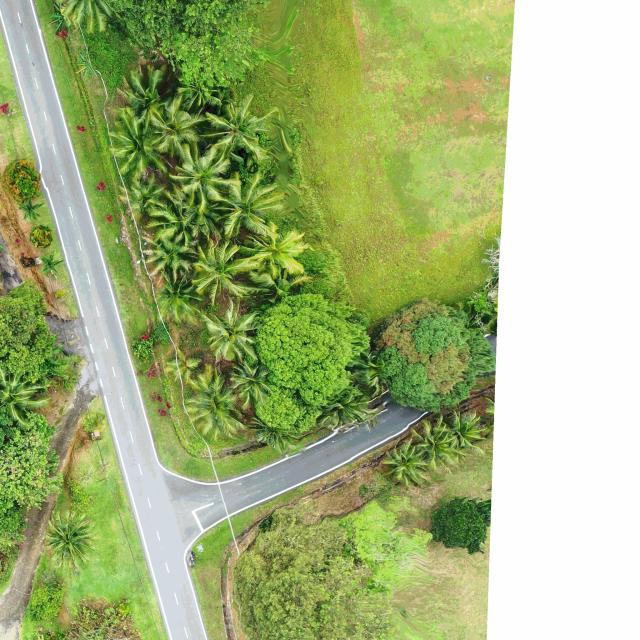0: (189, 223, 256, 305), (202, 96, 277, 169), (209, 170, 284, 237), (182, 366, 247, 439), (240, 220, 305, 284), (147, 94, 209, 160), (109, 108, 167, 177), (146, 184, 202, 248), (202, 301, 258, 361), (43, 510, 99, 568), (0, 366, 52, 428), (48, 0, 137, 35), (157, 267, 208, 325), (71, 597, 139, 640), (116, 66, 172, 118), (409, 419, 458, 471), (118, 171, 167, 222), (229, 358, 276, 408), (382, 441, 429, 488), (171, 72, 224, 111), (445, 408, 489, 452), (161, 345, 201, 388)
tree: (256, 292, 372, 408), (374, 298, 491, 413), (0, 420, 61, 510), (430, 496, 489, 552), (2, 158, 42, 203), (26, 582, 66, 620), (19, 196, 45, 221), (28, 225, 54, 249), (40, 250, 63, 275)
